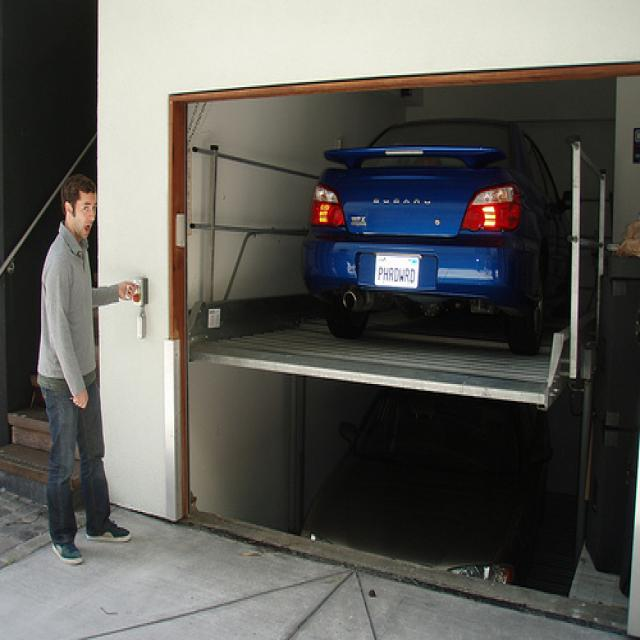Car: (293, 113, 584, 342)
